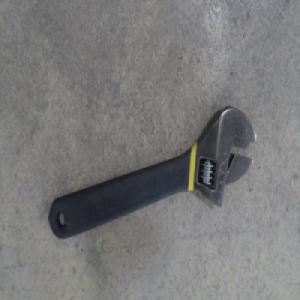AdjustableWrench: (47, 106, 254, 241)
